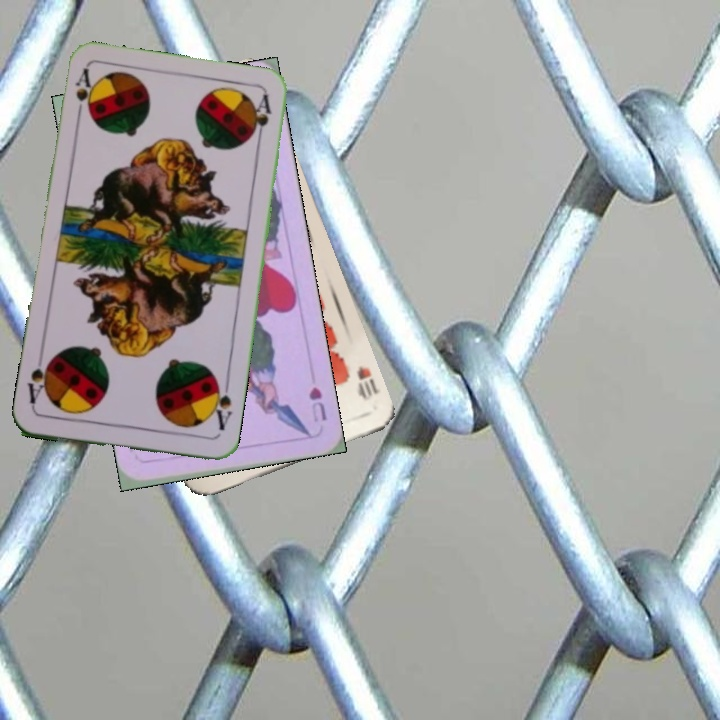H10: (352, 362, 382, 404)
HU: (304, 383, 330, 424)
SA: (206, 378, 235, 433), (71, 65, 96, 124)
